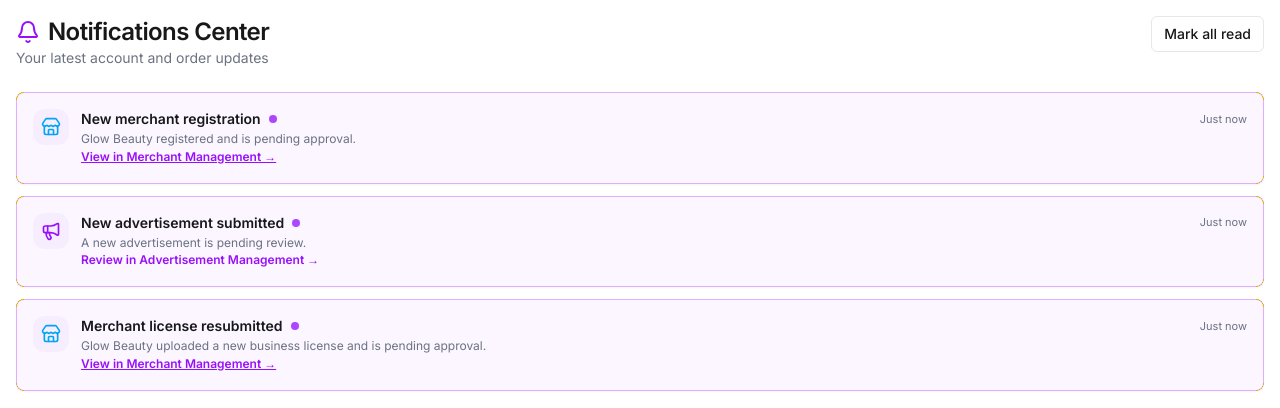
Test: Notifications Center › shows only relevant admin notifications and collapses duplicate registrations
The image size is (1280, 408).
Expected: the heading "Notifications Center" is shown, [16,16,269,48]
Expected: the number of headings "New merchant registration" is 1, [81,109,277,129]
Click the button "Mark all read": (1208, 34) [1151,16,1264,52]
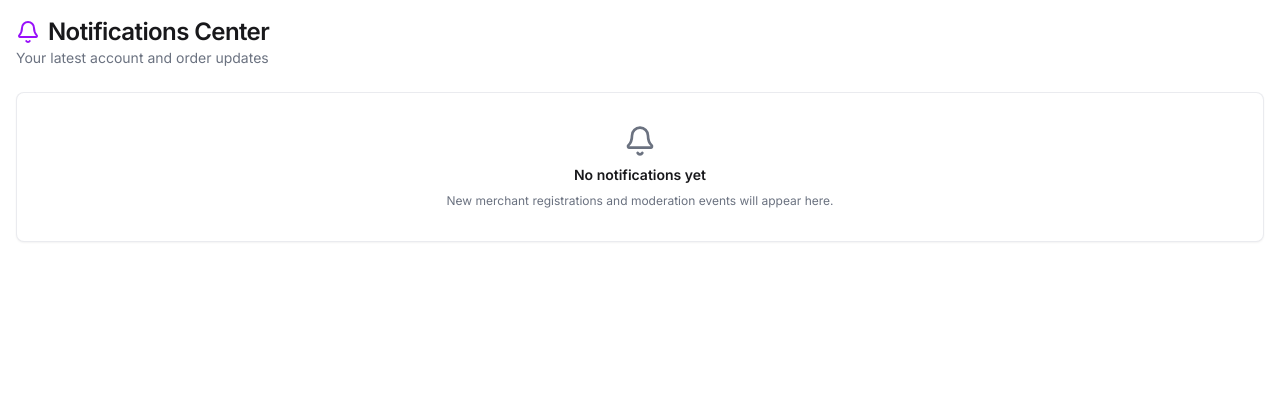
Now the button "Mark all read" is gone
